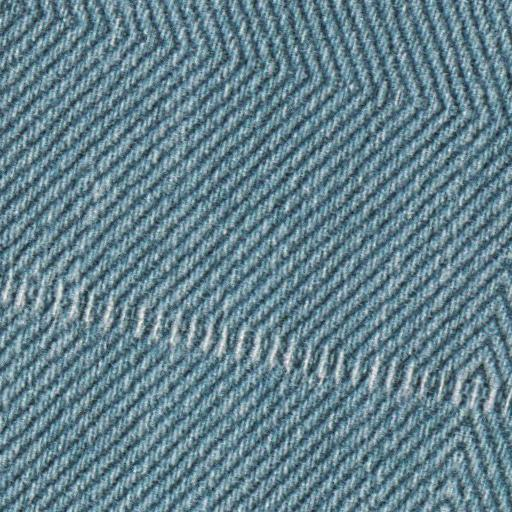slub: (1, 261, 510, 430)
